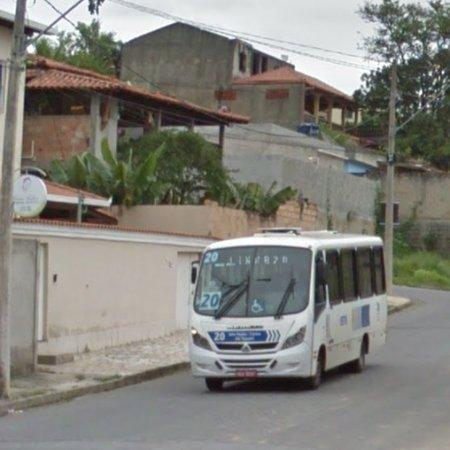buses: (191, 229, 388, 392)
